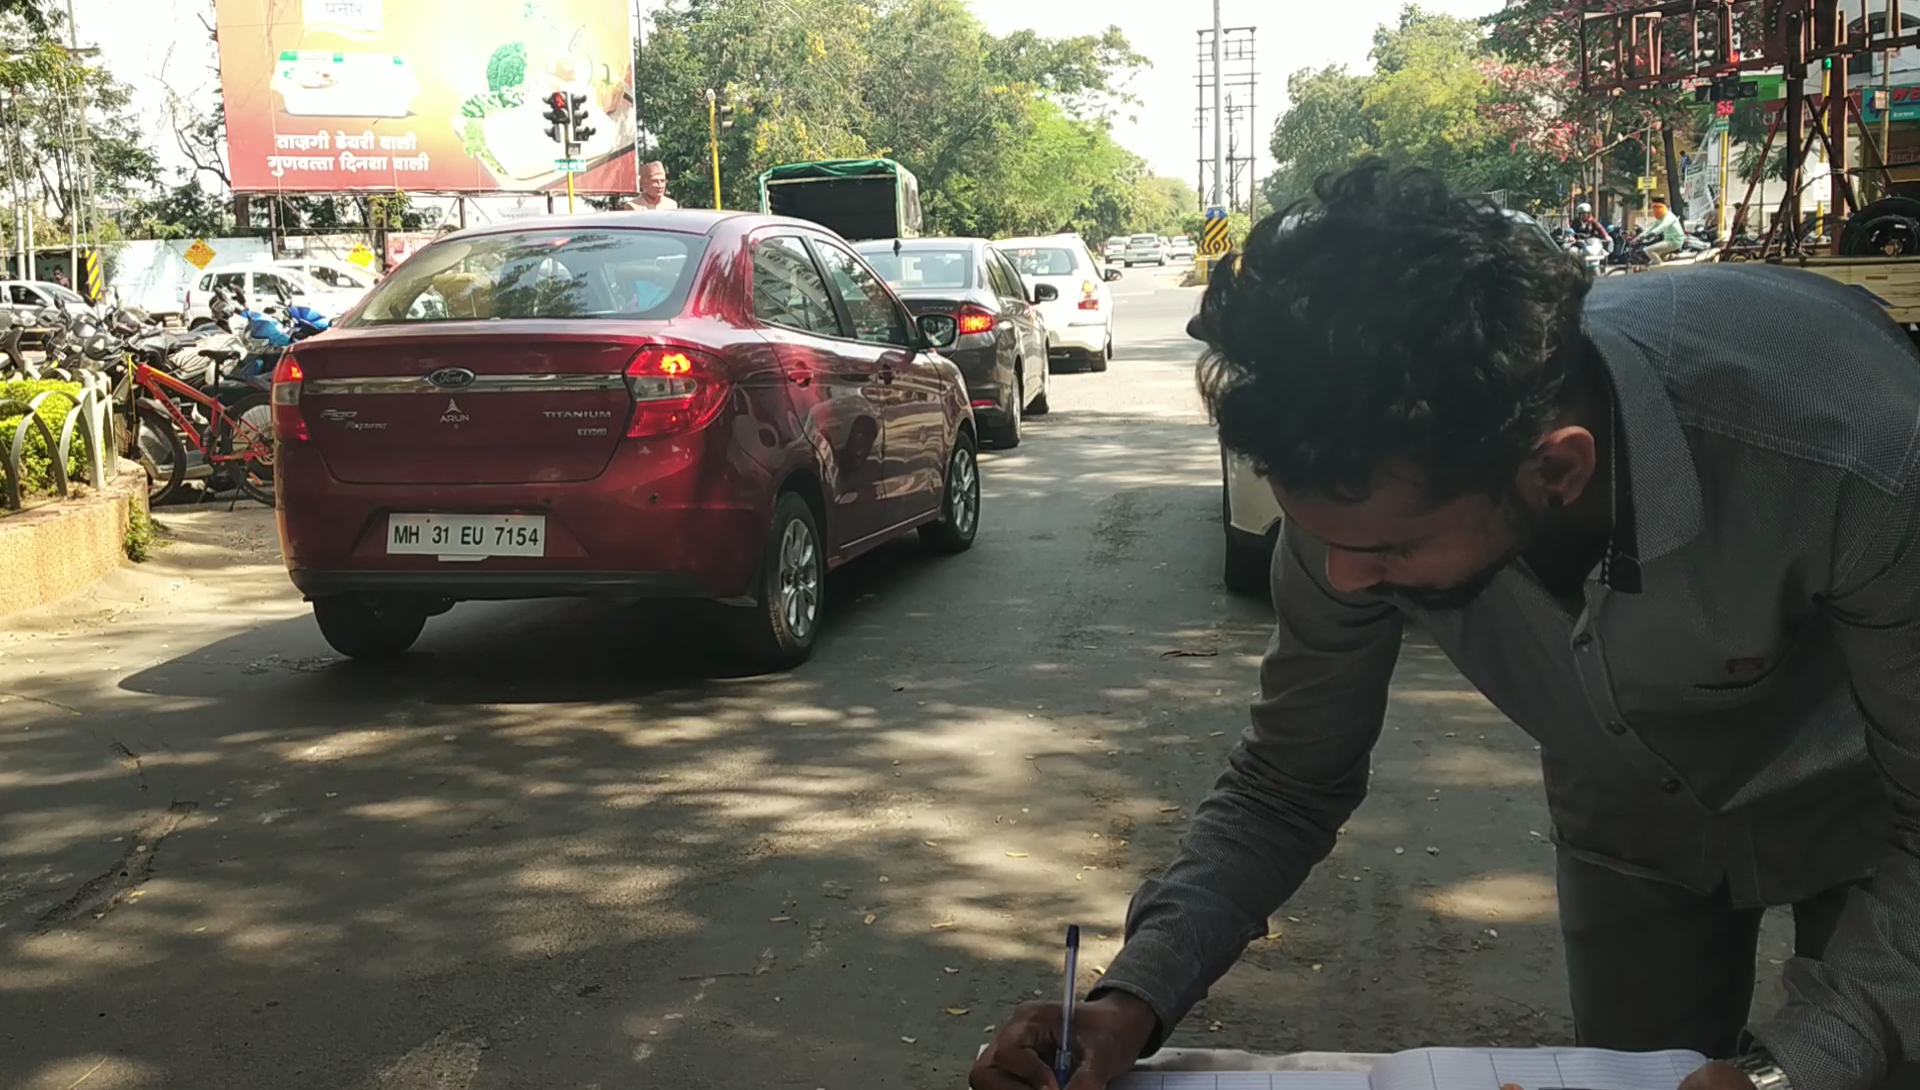car: (270, 205, 1003, 667)
numplate: (389, 505, 545, 558)
